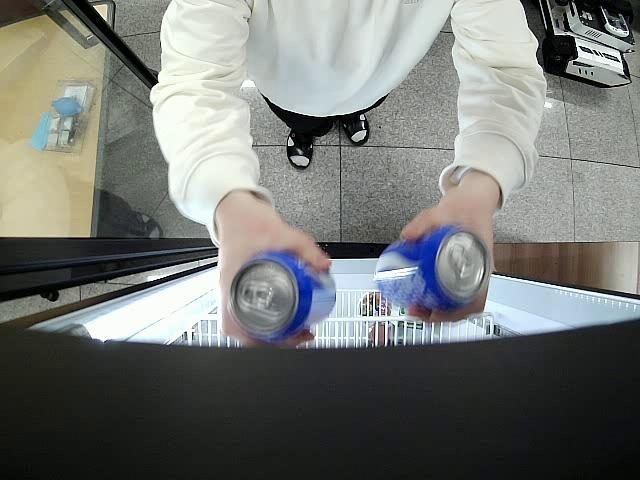13_pocariSweat: (375, 225, 490, 312), (230, 252, 336, 344)
